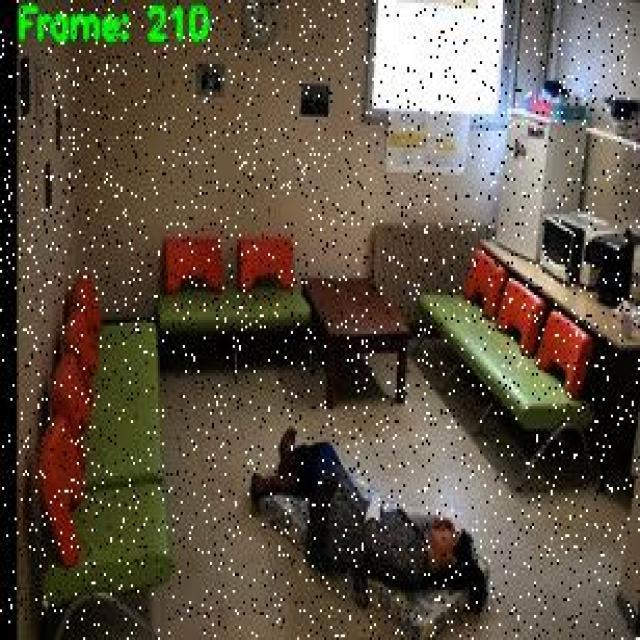fall: (244, 424, 487, 619)
